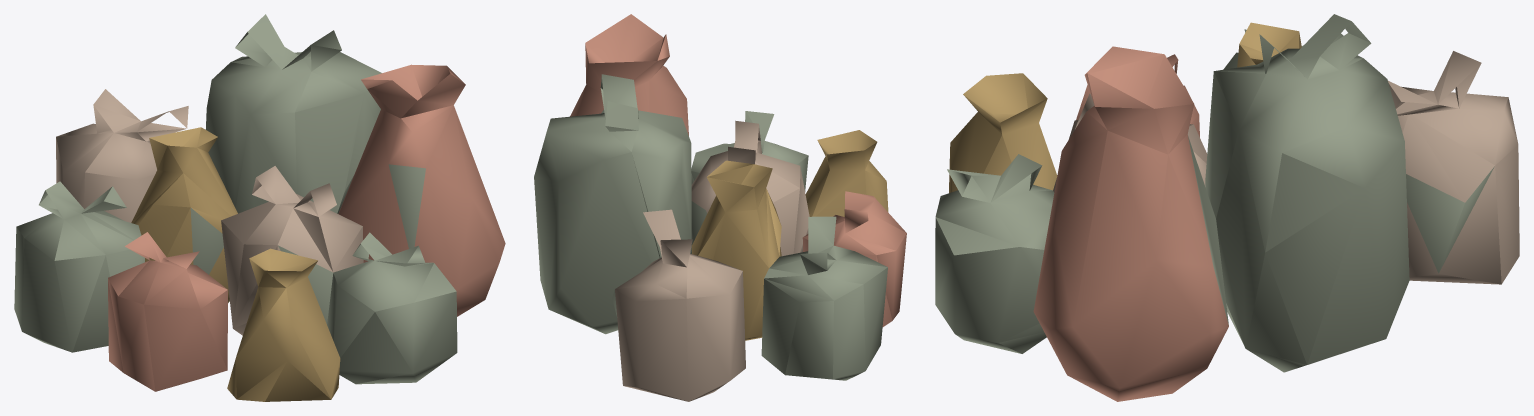
The model's file is gift_pile_01.low.glb.
The picture shows the model from 3 angles, left to right: view 1: azimuth 30°, elevation 25°; view 2: azimuth 150°, elevation 25°; view 3: azimuth 270°, elevation 25°; orthographic projection. The views are drawn at different scales.
Size of the model in its own units: 1.67 by 1.04 by 1.7.
